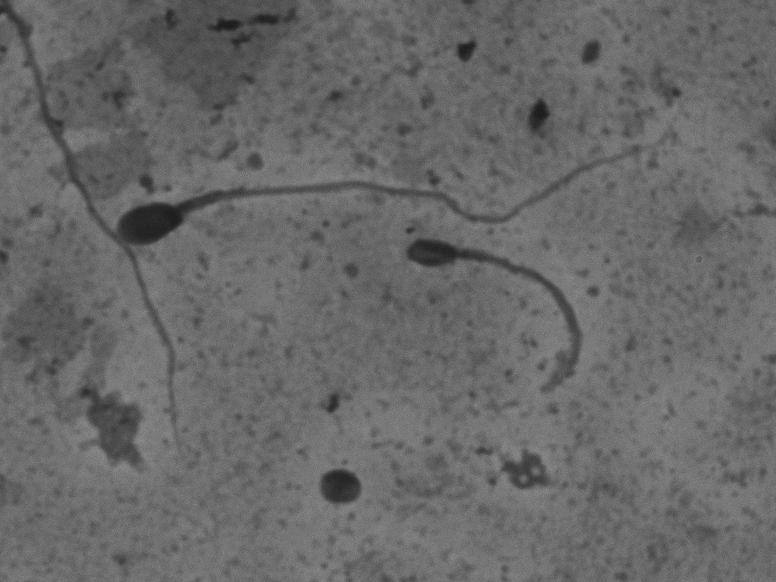Abnormal: (110, 92, 696, 251)
